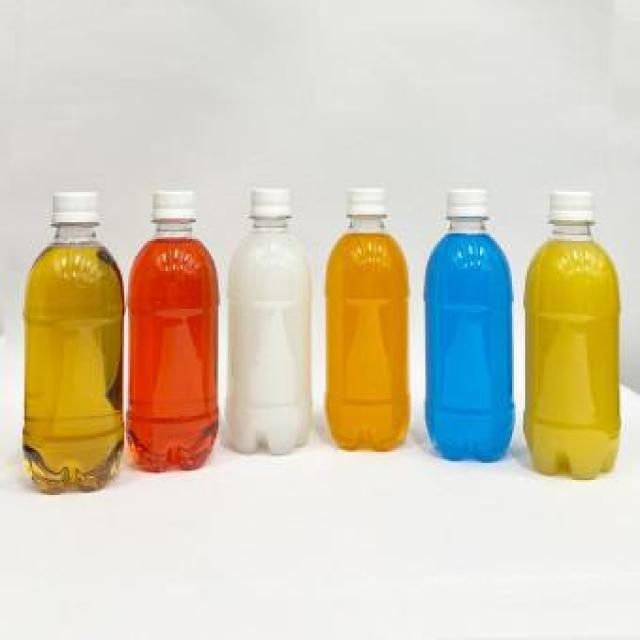bottle: (18, 192, 130, 493), (522, 192, 626, 478), (124, 182, 222, 469), (421, 188, 523, 460), (218, 191, 318, 453), (328, 192, 414, 448)
